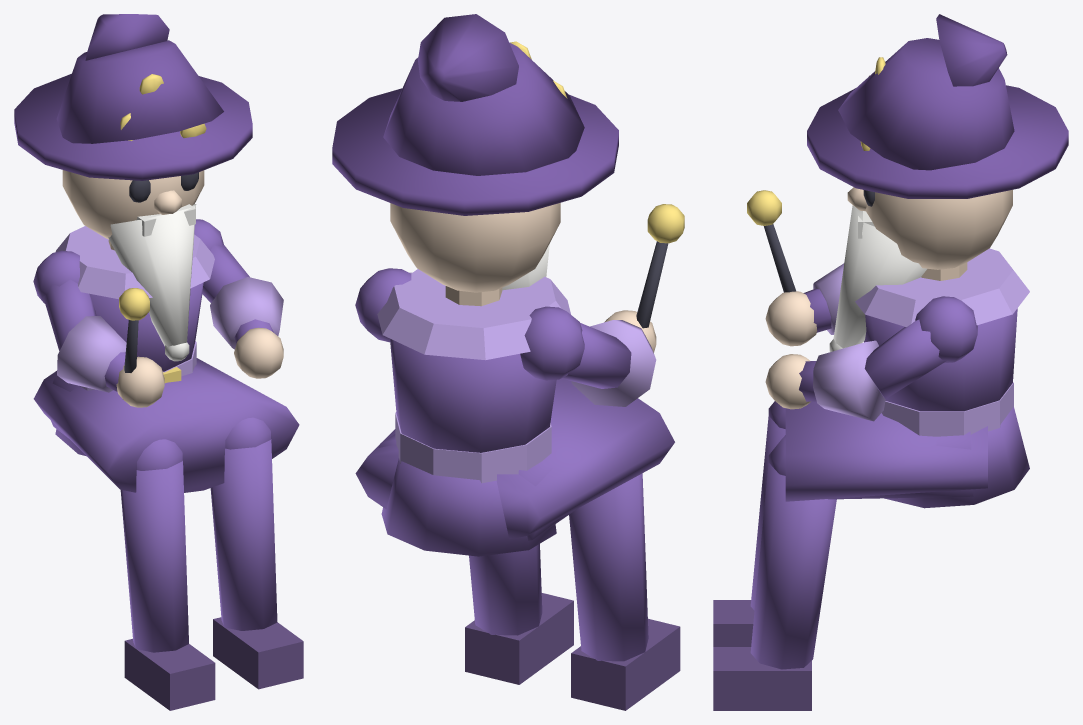
The model's file is meeple_01_zauberer.glb.
3 renders of one model, left to right at view 1: azimuth 30°, elevation 25°; view 2: azimuth 150°, elevation 25°; view 3: azimuth 270°, elevation 25°, orthographic. The views are drawn at different scales.
Parts seen in each view (by area): view 1: meeple_01_zauberer; view 2: meeple_01_zauberer; view 3: meeple_01_zauberer.
Boxes of the visible parts, x1,y1,x2,y2 form: meeple_01_zauberer: [14, 14, 303, 710]; meeple_01_zauberer: [332, 14, 684, 710]; meeple_01_zauberer: [713, 14, 1068, 710].
Size of the model in its own units: 0.5889 by 1.51 by 0.7385.
